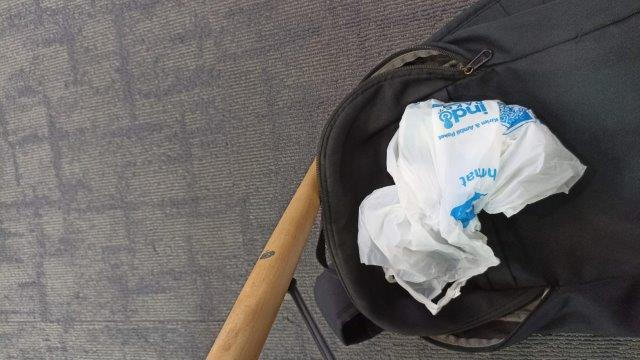plastik: (356, 98, 585, 313)
